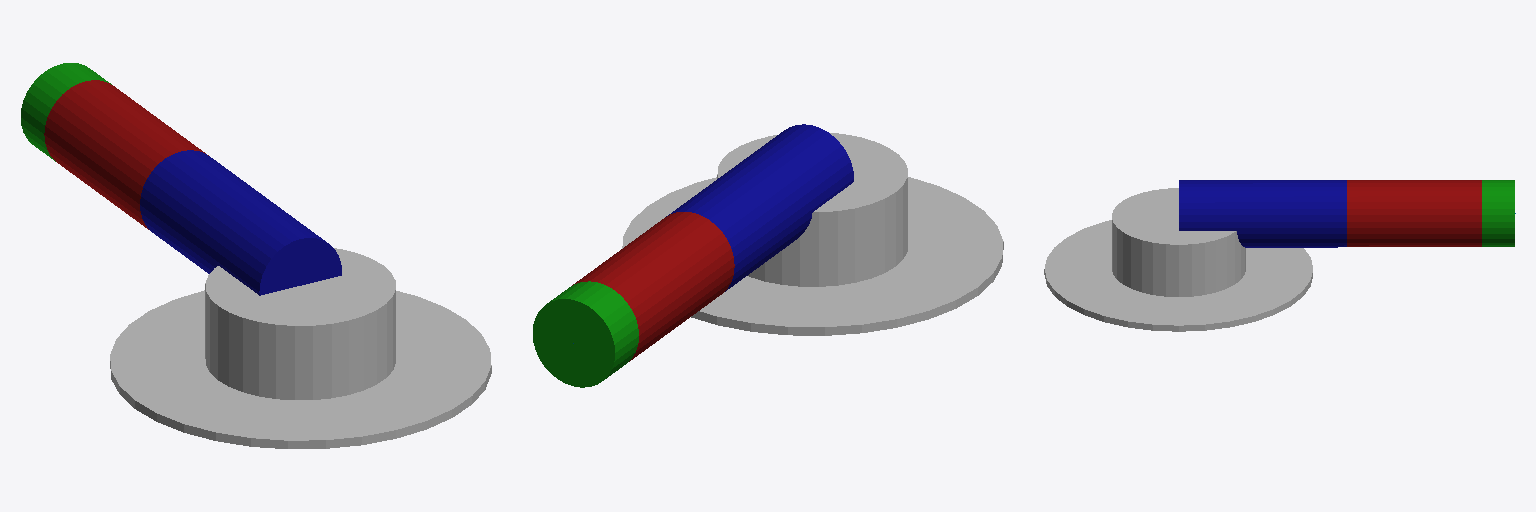
The robot description file, URDF, robot "han2um_test":
<?xml version="1.0"?>
<robot name="han2um_test">

    <link name="world"/>

<!--base_link1-->
    <link name="base_link">
        <visual>
            <geometry>
                <cylinder length="0.01" radius="0.2"/>
            </geometry>
            <material name="silver">
                <color rgba="0.75 0.75 0.75 1"/>
            </material>
            <origin rpy="0 0 0" xyz="0 0 0.005"/>
        </visual>
	<collision>
		<geometry>
           	     <cylinder length="0.01" radius="0.2"/>
           	</geometry>
		<origin rpy="0 0 0" xyz="0 0 0.005"/>
	</collision>
	<inertial>
		<mass value="0.1"/>
		<origin rpy="0 0 0" xyz="0 0 0.005"/>
		<inertia ixx="0.0027" iyy="0.0027" izz="0.005" ixy="0" ixz="0" iyz="0"/>
	</inertial>
    </link>
<!--base joint1-->
    <joint name="base" type="fixed">
        <parent link="world"/>
        <child link="base_link"/>
	<origin rpy="0 0 0" xyz="0 0 0.6"/>
    </joint>


<!--base_link2-->
    <link name="base_link2">
        <visual>
            <geometry>
                <cylinder length="0.09" radius="0.1"/>
            </geometry>
            <material name="silver">
                <color rgba="0.75 0.75 0.75 1"/>
            </material>
	
            <origin rpy="0 0 0" xyz="0 0 0.051"/>
        </visual>
	<collision>
		<geometry>
           	     <cylinder length="0.09" radius="0.1"/>
           	</geometry>
		<origin rpy="0 0 0" xyz="0 0 0.051"/>
	</collision>
	<inertial>
		<mass value="0.1"/>
        	<origin rpy="0 0 0" xyz="0 0 0.051"/>
		<inertia ixx="0.0027" iyy="0.0027" izz="0.005" ixy="0" ixz="0" iyz="0"/>
	</inertial>

    </link>
<!--base joint2-->
    <joint name="base2" type="revolute">
	<axis xyz="0 0 1"/>
        <parent link="base_link"/>
        <child link="base_link2"/>
	<origin rpy="0 0 0" xyz="0 0 0"/>
	<limit effort="300" velocity="0.1" lower="-3.14" upper="3.14"/>
    </joint>

<transmission name="joint2_trans">
   <type>transmission_interface/SimpleTransmission</type>
   <joint name="base2">
    <hardwareInterface>PositionJointInterface</hardwareInterface>
  </joint>
  <actuator name="base_motor2">
     <mechanicalReduction>1</mechanicalReduction>
    <hardwareInterface>PositionJointInterface</hardwareInterface>
  </actuator>
 </transmission>
<!--link1 link-->
	<link name="link1">
		<visual>
			<geometry>
				<cylinder length="0.25" radius="0.05"/>
			</geometry>
			<material name="blue">
				<color rgba="0.1 0.1 0.6 1"/>
			</material>
			<origin rpy="0 0 0" xyz="0 0 0.125"/>
		</visual>
	<collision>
			<geometry>
				<cylinder length="0.25" radius="0.05"/>
			</geometry>
			<origin rpy="0 0 0" xyz="0 0 0.125"/>
	</collision>
	<inertial>
		<mass value="0.1"/>
		<origin rpy="0 0 0" xyz="0 0 0.125"/>
		<inertia ixx="0.0027" iyy="0.0027" izz="0.005" ixy="0" ixz="0" iyz="0"/>
	</inertial>
	</link>
<!--link1 joint-->
	<joint name="link1_joint" type="revolute">
		<axis xyz="1 0 0"/>
		<parent link="base_link2"/>
		<child link="link1"/>
		<origin rpy="-1.57 0 0" xyz="0 0 0.1"/>
		<limit effort="300" velocity="0.1" lower="0" upper="3.14"/>
	</joint>
<transmission name="joint3_trans">
   <type>transmission_interface/SimpleTransmission</type>
   <joint name="link1_joint">
    <hardwareInterface>PositionJointInterface</hardwareInterface>
  </joint>
  <actuator name="base_motor3">
     <mechanicalReduction>1</mechanicalReduction>
    <hardwareInterface>PositionJointInterface</hardwareInterface>
  </actuator>
 </transmission>

<!--link2 link-->
	<link name="link2">
		<visual>
			<geometry>
				<cylinder length="0.2" radius="0.05"/>
			</geometry>
			<material name="red">
				<color rgba="0.6 0.1 0.1 1"/>
			</material>
			<origin rpy="0 0 0" xyz="0 0 0.1"/>
		</visual>
	<collision>
			<geometry>
				<cylinder length="0.2" radius="0.05"/>
			</geometry>
			<origin rpy="0 0 0" xyz="0 0 0.1"/>
	</collision>
	<inertial>
		<mass value="0.1"/>
		<origin rpy="0 0 0" xyz="0 0 0.1"/>
		<inertia ixx="0.0027" iyy="0.0027" izz="0.005" ixy="0" ixz="0" iyz="0"/>
	</inertial>
	</link>
<!--link2 joint-->
	<joint name="link2_joint" type="revolute">
		<axis xyz="1 0 0"/>
		<parent link="link1"/>
		<child link="link2"/>
		<origin rpy="0 0 -3.14" xyz="0 0 0.25"/>
		<limit effort="300" velocity="0.1" lower="-1.57" upper="3.14"/>
	</joint>
<transmission name="joint4_trans">
   <type>transmission_interface/SimpleTransmission</type>
   <joint name="link2_joint">
    <hardwareInterface>PositionJointInterface</hardwareInterface>
  </joint>
  <actuator name="base_motor4">
     <mechanicalReduction>1</mechanicalReduction>
    <hardwareInterface>PositionJointInterface</hardwareInterface>
  </actuator>
 </transmission>
<!--link3 link-->
	<link name="link3">
		<visual>
			<geometry>
				<cylinder length="0.05" radius="0.05"/>
			</geometry>
			<material name="green">
				<color rgba="0.1 0.6 0.1 1"/>
			</material>
			<origin rpy="0 0 0" xyz="0 0 0.025"/>
		</visual>
	<collision>
			<geometry>
				<cylinder length="0.05" radius="0.05"/>
			</geometry>
			<origin rpy="0 0 0" xyz="0 0 0.025"/>
	</collision>
		<inertial>
		<mass value="0.1"/>
		<origin rpy="0 0 0" xyz="0 0 0.025"/>
		<inertia ixx="0.0027" iyy="0.0027" izz="0.005" ixy="0" ixz="0" iyz="0"/>
	</inertial>
	</link>

<!--link3 joint-->
	<joint name="link3_joint" type="revolute">
		<axis xyz="1 0 0"/>
		<parent link="link2"/>
		<child link="link3"/>
		<origin rpy="0 0 0" xyz="0 0 0.2"/>
		<limit effort="300" velocity="0.1" lower="-1.57" upper="3.14"/>
	</joint>

<transmission name="joint5_trans">
   <type>transmission_interface/SimpleTransmission</type>
   <joint name="link3_joint">
    <hardwareInterface>PositionJointInterface</hardwareInterface>
  </joint>
  <actuator name="base_motor5">
     <mechanicalReduction>1</mechanicalReduction>
    <hardwareInterface>PositionJointInterface</hardwareInterface>
  </actuator>
 </transmission>

<!--camera sensor-->
<!--
  <link name="camera_link">
    <collision>
      <origin xyz="0 0 0" rpy="1.57 0 0"/>
      <geometry>
       <cylinder length="0.01" radius="0.02"/>
      </geometry>
    </collision>

    <visual>
      <origin xyz="-0.05 0  -0.05" rpy="1.57 0 0"/>
      <geometry>
       <cylinder length="0.01" radius="0.02"/>
      </geometry>
	<material name="green">
		<color rgba="0.1 0.6 0.1 1"/>
	</material>
    </visual>

    <inertial>
      <mass value="1e-5" />
      <origin xyz="0 0 0" rpy="0 0 0"/>
      <inertia ixx="1e-6" ixy="0" ixz="0" iyy="1e-6" iyz="0" izz="1e-6" />
    </inertial>
  </link>

  <joint name="camera_joint" type="fixed">
    <axis xyz="1 0 0" />
      <origin xyz="0 0 0.05" rpy="3.925 -1.57 1.57"/>
    <parent link="link3"/>
    <child link="camera_link"/>
  </joint>

-->
<!--
  <gazebo reference="camera_link">
    <sensor type="camera" name="camera1">
      <update_rate>30.0</update_rate>
      <camera name="head">
        <horizontal_fov>1.3962634</horizontal_fov>
        <image>
          <width>400</width>
          <height>400</height>
          <format>R8G8B8</format>
        </image>
        <clip>
          <near>0.02</near>
          <far>300</far>
        </clip>
        <noise>
          <type>gaussian</type>-->
          <!-- Noise is sampled independently per pixel on each frame.
               That pixel's noise value is added to each of its color
               channels, which at that point lie in the range [0,1]. -->
<!--
          <mean>0.0</mean>
          <stddev>0.007</stddev>
        </noise>
      </camera>
      <plugin name="camera_controller" filename="libgazebo_ros_camera.so">
        <alwaysOn>true</alwaysOn>
        <updateRate>0.0</updateRate>
        <cameraName>rrbot/camera1</cameraName>
        <imageTopicName>image_raw</imageTopicName>
        <cameraInfoTopicName>camera_info</cameraInfoTopicName>
        <frameName>camera_link</frameName>
        <hackBaseline>0.07</hackBaseline>
        <distortionK1>0.0</distortionK1>
        <distortionK2>0.0</distortionK2>
        <distortionK3>0.0</distortionK3>
        <distortionT1>0.0</distortionT1>
        <distortionT2>0.0</distortionT2>
      </plugin>

    </sensor>
  </gazebo>
-->
<gazebo>
	<plugin name="gazebo_ros_control" filename="libgazebo_ros_control.so"/>
	<plugin name="joint_state_publisher" filename="libgazebo_ros_joint_state_publisher.so">
		<jointName> base2, link1_joint, link2_joint, link3_joint</jointName>
	</plugin>
</gazebo>

 <!-- Define RGB-D sensor -->
  <!-- frames in the center of the camera -->
  <joint name="rgbd_camera_joint" type="fixed">
    <origin rpy="0 0 -1.57" xyz="0 0 0.05"/><!---3.14 binggle z axis  -1.57 in or out 1.57-->
    <parent link="link3"/>
    <child link="rgbd_camera_link"/>
  </joint>
  <link name="rgbd_camera_link">
    <inertial>
      <origin rpy="0 0 0" xyz="-0.00936000000 -0.00003000000 -0.00273000000"/>
      <mass value="0.21970000000"/>
      <inertia ixx="0.00000429247" ixy="0.00000000000" ixz="0.00000002565" iyy="0.00000008027" iyz="0.00000000000" izz="0.00000427339"/>
    </inertial>
    <visual>
      <origin rpy="0 0 0" xyz="0 0 0"/>
      <geometry>
        <mesh filename="package://realsense2_description/meshes/d435.dae"/>
      </geometry>
      <material name="DarkGrey"/>
    </visual>
  </link>
  <joint name="rgbd_camera_optical_joint" type="fixed">
    <origin rpy="0 0 0" xyz="0 0 0"/>
    <parent link="rgbd_camera_link"/>
    <child link="rgbd_camera_optical_frame"/>
  </joint>
  <link name="rgbd_camera_optical_frame">
    <inertial>
      <origin rpy="0 0 0" xyz="0 0 0"/>
      <mass value="0.001"/>
      <inertia ixx="0.00001" ixy="0" ixz="0" iyy="0.00001" iyz="0" izz="0.00001"/>
    </inertial>
  </link>
  <!-- Depth sensor frames --> <!--test-->
  <joint name="rgbd_camera_depth_joint" type="fixed">
    <origin rpy="0 0 0" xyz="0.0 0.049 0.0"/>
    <parent link="rgbd_camera_link"/>
    <child link="rgbd_camera_depth_frame"/>
  </joint>
  <link name="rgbd_camera_depth_frame">
    <inertial>
      <origin rpy="0 0 0" xyz="0 0 0"/>
      <mass value="0.001"/>
      <inertia ixx="0.00001" ixy="0" ixz="0" iyy="0.00001" iyz="0" izz="0.00001"/>
    </inertial>
  </link>
  <joint name="rgbd_camera_depth_optical_joint" type="fixed">
    <origin rpy="0 0.0 0" xyz="0 0 0"/>
    <parent link="rgbd_camera_depth_frame"/>
    <child link="rgbd_camera_depth_optical_frame"/>
  </joint>
  <link name="rgbd_camera_depth_optical_frame">
    <inertial>
      <origin rpy="0 0 0" xyz="0 0 0"/>
      <mass value="0.001"/>
      <inertia ixx="0.00001" ixy="0" ixz="0" iyy="0.00001" iyz="0" izz="0.00001"/>
    </inertial>
  </link>
  <!-- RGB sensor frames -->
  <joint name="rgbd_camera_rgb_joint" type="fixed">
    <origin rpy="0 0 0" xyz="0.0 0.022 0.0"/>
    <parent link="rgbd_camera_link"/>
    <child link="rgbd_camera_rgb_frame"/>
  </joint>
  <link name="rgbd_camera_rgb_frame">
    <inertial>
      <origin rpy="0 0 0" xyz="0 0 0"/>
      <mass value="0.001"/>
      <inertia ixx="0.00001" ixy="0" ixz="0" iyy="0.00001" iyz="0" izz="0.00001"/>
    </inertial>
  </link>
  <joint name="rgbd_camera_rgb_optical_joint" type="fixed">
    <origin rpy="-0 0.0 0" xyz="0 0 0"/>
    <parent link="rgbd_camera_rgb_frame"/>
    <child link="rgbd_camera_rgb_optical_frame"/>
  </joint>
  <link name="rgbd_camera_rgb_optical_frame">
    <inertial>
      <origin rpy="0 0 0" xyz="0 0 0"/>
      <mass value="0.001"/>
      <inertia ixx="0.00001" ixy="0" ixz="0" iyy="0.00001" iyz="0" izz="0.00001"/>
    </inertial>
  </link>
  <gazebo reference="rgbd_camera_link">
    <!-- Depth (IR) -->
    <sensor name="rgbd_camera_frame_sensor" type="depth">
      <always_on>true</always_on>
      <update_rate>6.0</update_rate>
      <camera>
        <horizontal_fov>1.01229096616</horizontal_fov>
        <image>
          <format>R8G8B8</format>
          <width>640</width>
          <height>480</height>
        </image>
        <clip>
          <near>0.05</near>
          <far>4.0</far>
        </clip>
      </camera>
      <plugin filename="libgazebo_ros_openni_kinect.so" name="rgbd_camera_frame_controller">
        <alwaysOn>true</alwaysOn>
        <updateRate>6.0</updateRate>
        <cameraName>rgbd_camera</cameraName>
        <imageTopicName>ir/image_raw</imageTopicName>
        <cameraInfoTopicName>ir/camera_info</cameraInfoTopicName>
        <depthImageTopicName>depth/image_raw</depthImageTopicName>
        <depthImageCameraInfoTopicName>depth/camera_info</depthImageCameraInfoTopicName>
        <pointCloudTopicName>depth/points</pointCloudTopicName>
        <frameName>rgbd_camera_optical_frame</frameName>
        <pointCloudCutoff>0.05</pointCloudCutoff>
        <pointCloudCutoffMax>5</pointCloudCutoffMax>
        <rangeMax>4.0</rangeMax>
        <!-- Distortion parameters not supported in gazebo 1.9.* plugins -->
        <!--distortionK1>0.00000001</distortionK1>
          <distortionK2>0.00000001</distortionK2>
          <distortionK3>0.00000001</distortionK3>
          <distortionT1>0.00000001</distortionT1>
          <distortionT2>0.00000001</distortionT2-->
      </plugin>
    </sensor>
    <!-- RGB -->
    <sensor name="rgbd_camera_frame_sensor" type="depth">
      <always_on>true</always_on>
      <update_rate>6.0</update_rate>
      <camera>
        <horizontal_fov>1.01229096616</horizontal_fov>
        <image>
          <format>R8G8B8</format>
          <width>640</width>
          <height>480</height>
        </image>
        <clip>
          <near>0.05</near>
          <far>4.0</far>
        </clip>
      </camera>
      <plugin filename="libgazebo_ros_openni_kinect.so" name="rgbd_camera_frame_controller">
        <alwaysOn>true</alwaysOn>
        <updateRate>6.0</updateRate>
        <cameraName>rgbd_camera</cameraName>
        <imageTopicName>rgb/image_raw</imageTopicName>
        <cameraInfoTopicName>rgb/camera_info</cameraInfoTopicName>
        <pointCloudTopicName>rgb/points</pointCloudTopicName>
        <depthImageTopicName>depth/image_raw</depthImageTopicName>
        <depthImageCameraInfoTopicName>depth/camera_info</depthImageCameraInfoTopicName>
        <frameName>rgbd_camera_optical_frame</frameName>
        <pointCloudCutoff>0.05</pointCloudCutoff>
        <pointCloudCutoffMax>5</pointCloudCutoffMax>
        <rangeMax>4.0</rangeMax>
      </plugin>
    </sensor>
  </gazebo>
<!--imu sensor-->

  <joint name="imu_joint" type="fixed">
    <axis xyz="0 1 0"/>
    <origin xyz="0 0 0"/>
    <parent link="rgbd_camera_link"/>
    <child link="imu_link"/>
</joint>
  <link name="imu_link">
    <inertial>
      <mass value="0.001"/>
      <origin rpy="0 0 0" xyz="0 0 0"/>
      <inertia ixx="0.0001" ixy="0" ixz="0" iyy="0.000001" iyz="0" izz="0.0001"/>
      </inertial>
    <visual>
      <origin rpy="0 0 0" xyz="0 0 0"/>
      <geometry>
        <box size="0.001 0.001 0.001"/>
      </geometry>
    </visual>
    <collision>
      <origin rpy="0 0 0" xyz="0 0 0"/>
      <geometry>
        <box size=".001 .001 .001"/>
      </geometry>
    </collision>
  </link>

  <gazebo reference="imu_link">
    <gravity>true</gravity>
    <sensor name="imu_sensor" type="imu">
      <always_on>true</always_on>
      <update_rate>100</update_rate>
      <visualize>true</visualize>
      <topic>__default_topic__</topic>
      <plugin filename="libgazebo_ros_imu_sensor.so" name="imu_plugin">
        <topicName>imu</topicName>
        <bodyName>imu_link</bodyName>
        <updateRateHZ>10.0</updateRateHZ>
        <gaussianNoise>0.0</gaussianNoise>
        <xyzOffset>0.27 0.65 0.27</xyzOffset>
        <rpyOffset>0 0 0</rpyOffset>
        <frameName>imu_link</frameName>
        <initialOrientationAsReference>false</initialOrientationAsReference>
      </plugin>
      <pose>0 0 0 0 0 0</pose>
    </sensor>
  </gazebo>
</robot>

--- Facts derived from the render (not from the file) ---
3 views of the same robot in one strip: view 1: azimuth 30°, elevation 25°; view 2: azimuth 150°, elevation 25°; view 3: azimuth 270°, elevation 25° (orthographic).
Model han2um_test with 13 links and 12 joints (4 revolute, 8 fixed), rooted at world, posed every joint at zero.
Links seen in each view (by area): view 1: base_link, base_link2, link1, link2, link3; view 2: base_link, base_link2, link1, link2, link3; view 3: base_link, base_link2, link1, link2, link3.
Boxes of the visible links, x1=… form: base_link: x1=110, y1=290, x2=491, y2=448; base_link2: x1=205, y1=248, x2=395, y2=399; link1: x1=140, y1=150, x2=341, y2=295; link2: x1=44, y1=80, x2=208, y2=229; link3: x1=21, y1=63, x2=111, y2=161; base_link: x1=622, y1=177, x2=1003, y2=335; base_link2: x1=717, y1=133, x2=907, y2=286; link1: x1=666, y1=124, x2=853, y2=291; link2: x1=572, y1=212, x2=734, y2=361; link3: x1=533, y1=281, x2=638, y2=387; base_link: x1=1044, y1=220, x2=1312, y2=331; base_link2: x1=1112, y1=188, x2=1245, y2=296; link1: x1=1179, y1=180, x2=1346, y2=247; link2: x1=1347, y1=180, x2=1481, y2=246; link3: x1=1482, y1=180, x2=1514, y2=246.
Size in the robot's own frame: 0.4 by 0.7005 by 0.1504 metres.
Meshes: 1 distinct files referenced, 0 mesh visuals loaded (none loaded); not drawn: 1 (reference not matched to a file when rendering).
